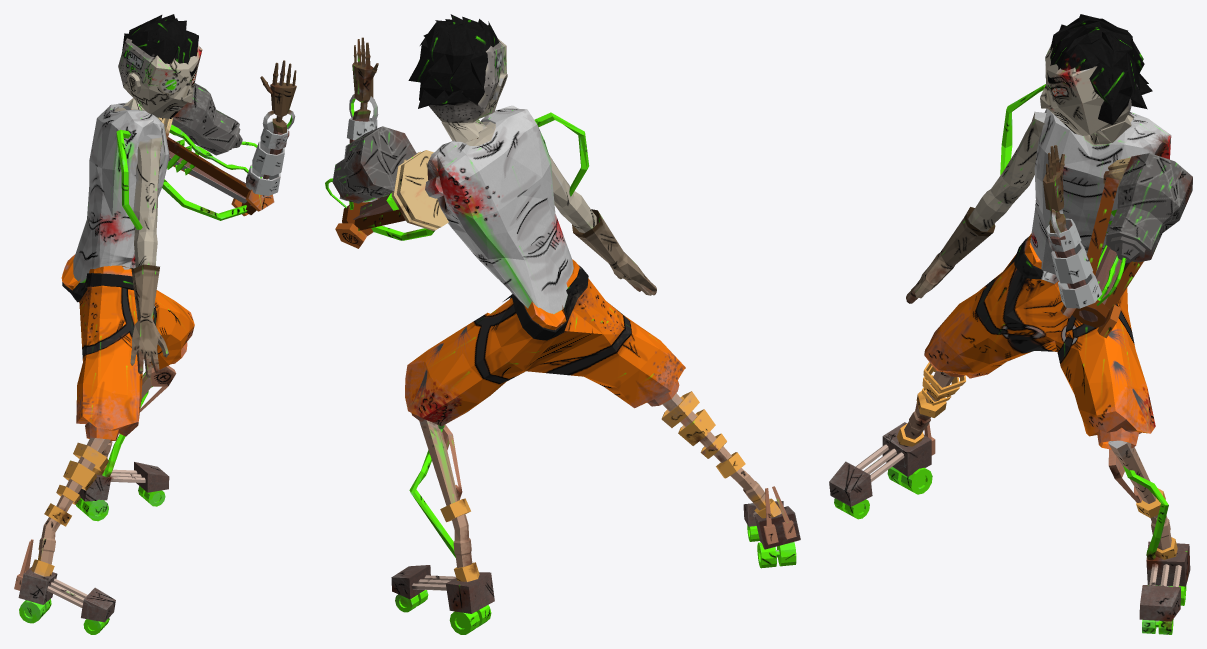
Rendered from CyborgFINALAnimation_000047.obj.
3 renders of one model, left to right at view 1: azimuth 30°, elevation 25°; view 2: azimuth 150°, elevation 25°; view 3: azimuth 270°, elevation 25°, orthographic. The views are drawn at different scales.
Parts seen in each view (by area): view 1: CyborgMesh_Cube.002; view 2: CyborgMesh_Cube.002; view 3: CyborgMesh_Cube.002.
Boxes of the visible parts, x1,y1,x2,y2 form: CyborgMesh_Cube.002: (14,14,296,634); CyborgMesh_Cube.002: (325,14,800,634); CyborgMesh_Cube.002: (829,14,1192,634).
Bounding box in the file's own units: 6.02 × 8.66 × 4.7.
